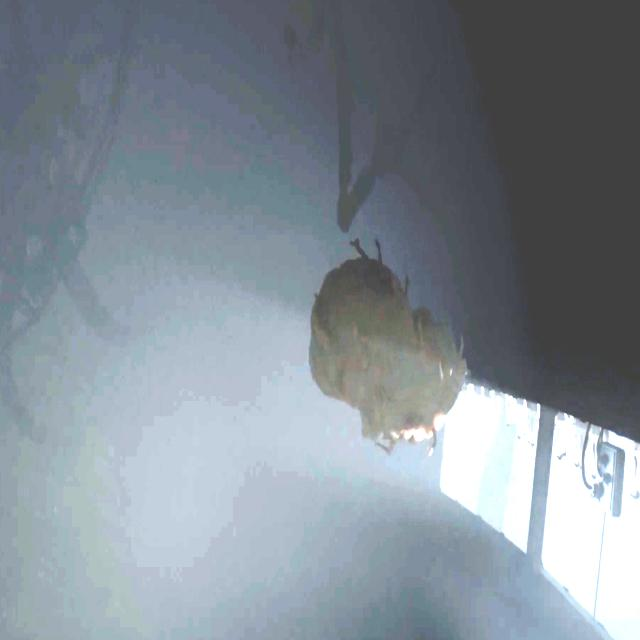blob: (307, 243, 468, 454)
human: (630, 444, 640, 500), (590, 427, 600, 480), (555, 414, 565, 460), (530, 406, 540, 448), (491, 393, 503, 428), (579, 425, 588, 469), (573, 419, 581, 467), (563, 415, 571, 458), (481, 391, 490, 426), (473, 386, 481, 424), (521, 400, 529, 437), (505, 396, 512, 428), (517, 398, 522, 442), (460, 385, 466, 421), (526, 425, 531, 445), (512, 410, 516, 428)
interactible: (582, 420, 625, 518)
mechanism: (336, 0, 459, 233)
